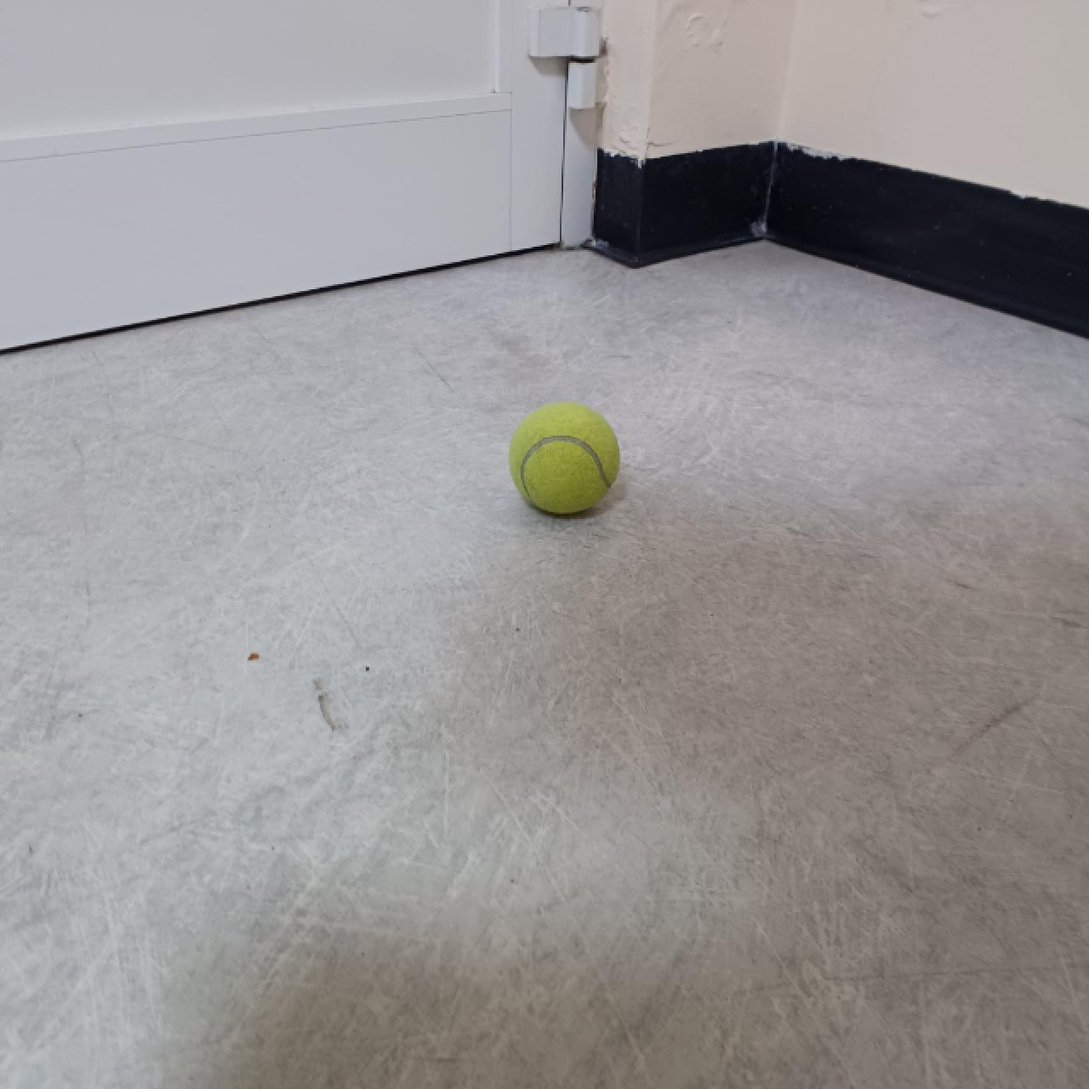tennis-ball: (507, 396, 625, 520)
